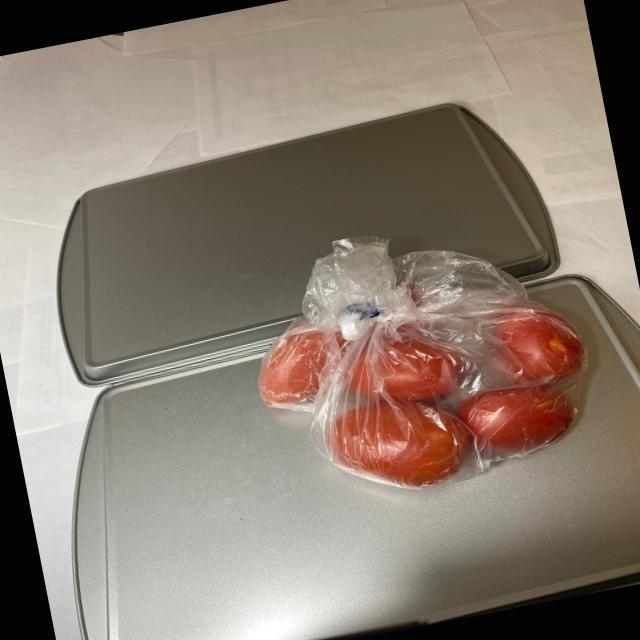tomato: (236, 220, 604, 517)
